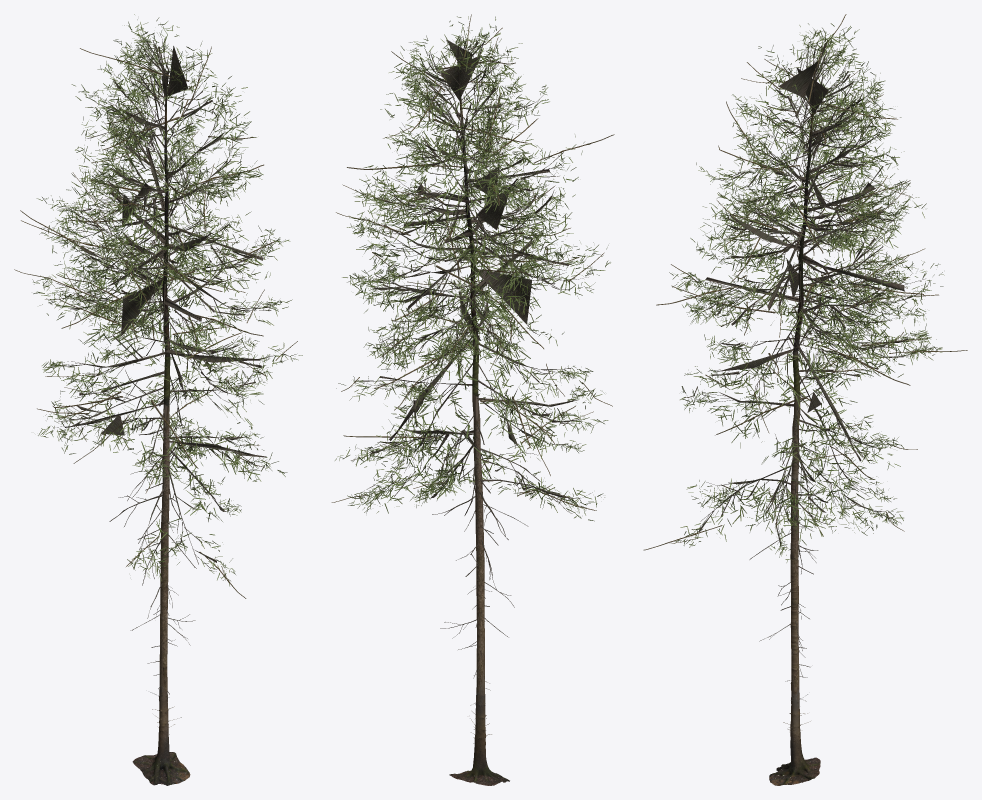
File: fir_tree_01_a.glb
The picture shows the model from 3 angles, left to right: view 1: azimuth 30°, elevation 25°; view 2: azimuth 150°, elevation 25°; view 3: azimuth 270°, elevation 25°; orthographic projection. The views are drawn at different scales.
Visible parts, largest first — view 1: fir_tree_01_a_LOD0.003, fir_tree_01_a_LOD0.001, fir_tree_01_a_LOD0.002, fir_tree_01_a_LOD0; view 2: fir_tree_01_a_LOD0.003, fir_tree_01_a_LOD0.001, fir_tree_01_a_LOD0.002, fir_tree_01_a_LOD0; view 3: fir_tree_01_a_LOD0.003, fir_tree_01_a_LOD0.001, fir_tree_01_a_LOD0.002, fir_tree_01_a_LOD0.
Part boxes in pixels (x1,y1,x2,y2): fir_tree_01_a_LOD0.003: [14, 14, 302, 598]; fir_tree_01_a_LOD0.001: [54, 36, 274, 569]; fir_tree_01_a_LOD0.002: [132, 78, 190, 785]; fir_tree_01_a_LOD0: [109, 429, 200, 694]; fir_tree_01_a_LOD0.003: [331, 14, 614, 521]; fir_tree_01_a_LOD0.001: [358, 36, 590, 513]; fir_tree_01_a_LOD0.002: [449, 71, 509, 785]; fir_tree_01_a_LOD0: [432, 424, 540, 705]; fir_tree_01_a_LOD0.003: [643, 14, 967, 562]; fir_tree_01_a_LOD0.001: [694, 42, 925, 546]; fir_tree_01_a_LOD0.002: [769, 86, 820, 785]; fir_tree_01_a_LOD0: [749, 429, 837, 701].
Size of the model in its own units: 6.37 by 18.86 by 7.39.
Materials: 4 (4 with a texture image).
